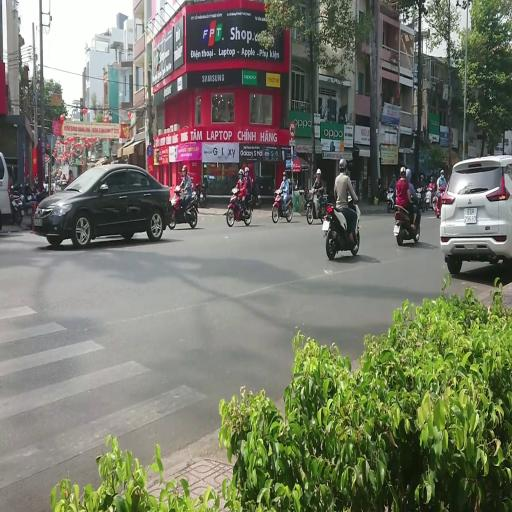bikes: (322, 196, 360, 260), (393, 196, 421, 246), (168, 186, 199, 228), (226, 188, 253, 227), (305, 187, 328, 224), (29, 187, 47, 229), (272, 188, 292, 223), (8, 182, 24, 224), (434, 186, 444, 218), (318, 192, 328, 224), (250, 178, 261, 207), (194, 182, 206, 207), (416, 186, 427, 212), (386, 186, 396, 212), (424, 185, 434, 210), (432, 192, 440, 218), (55, 177, 68, 191)
helmet: (339, 158, 347, 170), (406, 168, 412, 181), (400, 166, 406, 175), (238, 168, 244, 176), (174, 185, 180, 193), (244, 167, 250, 174), (232, 188, 238, 194), (316, 168, 321, 175), (182, 165, 187, 172), (440, 169, 444, 176), (283, 172, 286, 179), (433, 183, 436, 190), (430, 170, 433, 177), (430, 177, 434, 182), (420, 175, 424, 180), (392, 174, 396, 179)
